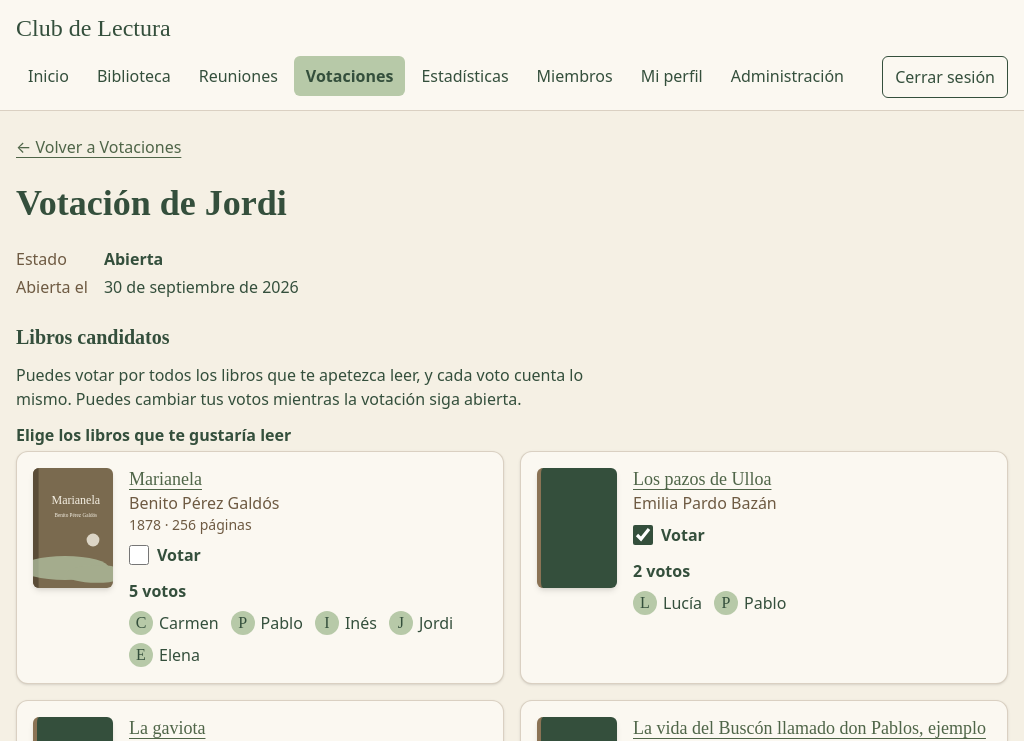
Test case: Vote page: changing an approval › puts the checkbox back and shows an alert next to it when saving fails
The image size is (1024, 741).
Expected: the link "← Volver a Votaciones" is shown, [16,136,181,158]
Click the checkbox labelled "Votar" below "Emilia Pardo Bazán": [643, 534] box [633,524,653,544]
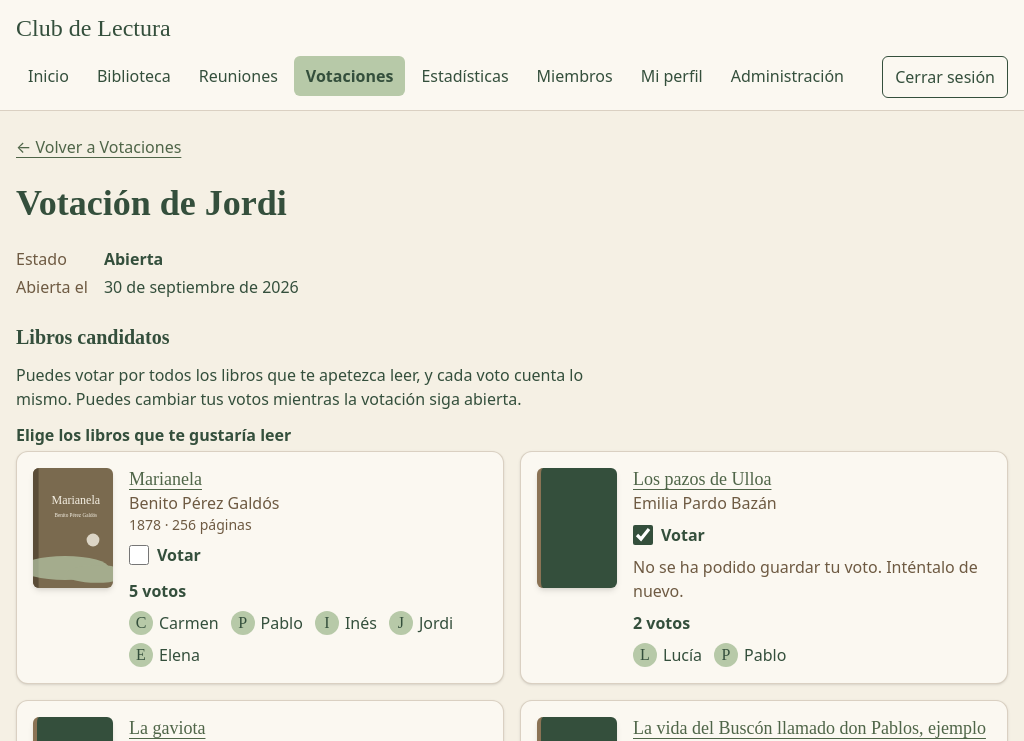
Expected: the list item that starts with "Los pazos de Ulloa" shows "2 votos", [633,612,690,634]
Expected: the message reads "No se ha podido guardar tu voto. Inténtalo de nuevo.", [633,556,978,602]
# Trying again works and clears the alert.
Click the checkbox labelled "Votar" below "Emilia Pardo Bazán": [643, 534] box [633,524,653,544]
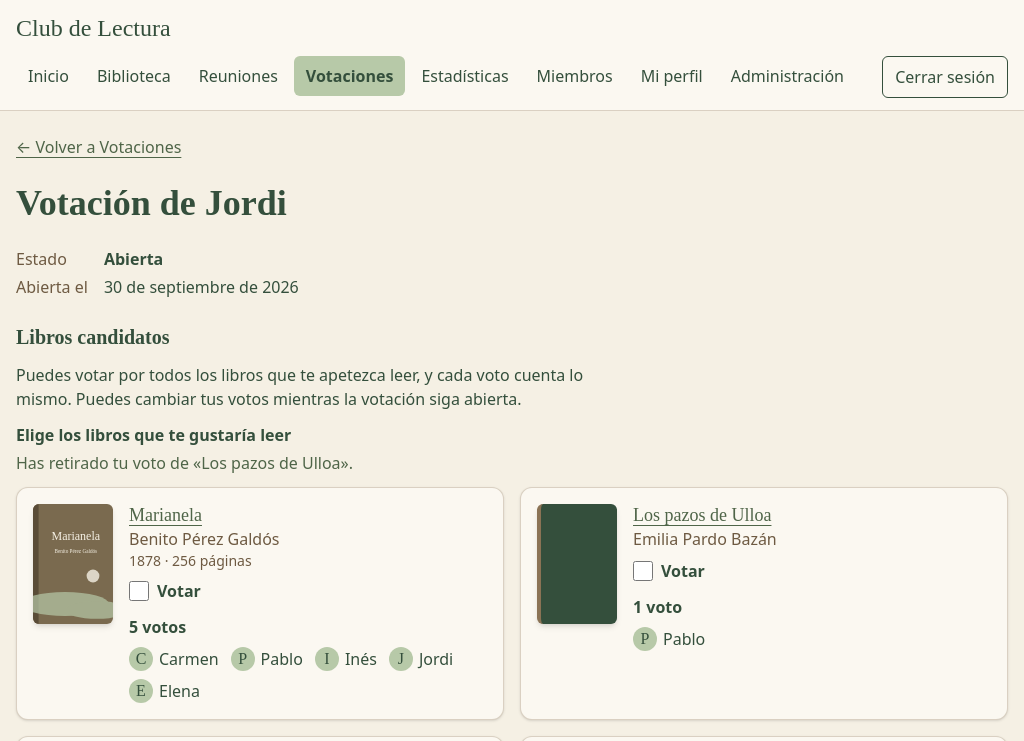
Expected: the list item "Los pazos de Ulloa Emilia Pardo Bazán Votar 1 voto P Pablo" is shown, [520,487,1008,720]
